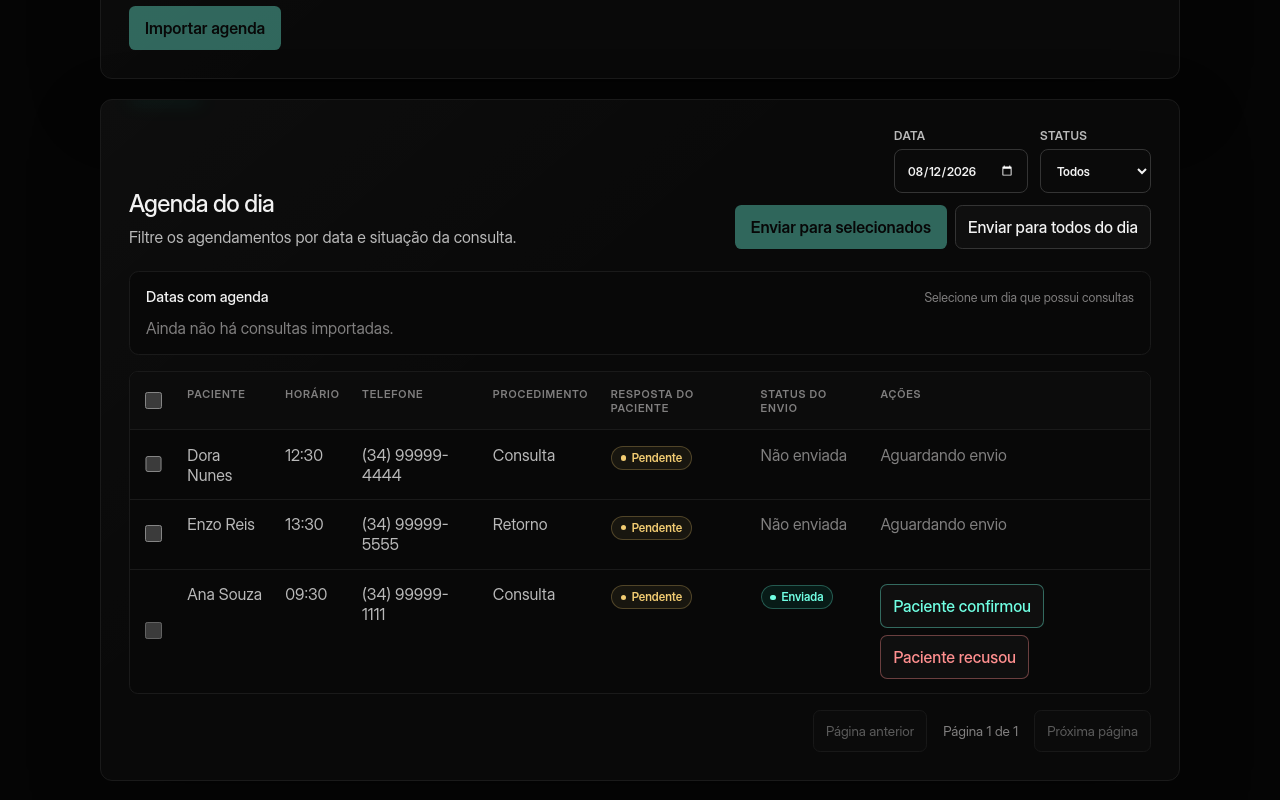
selects every eligible appointment visible on the page
(page scrolled)
Click the checkbox named "Selecionar todos os agendamentos elegíveis desta página" at (154, 401), box [145, 392, 162, 409]
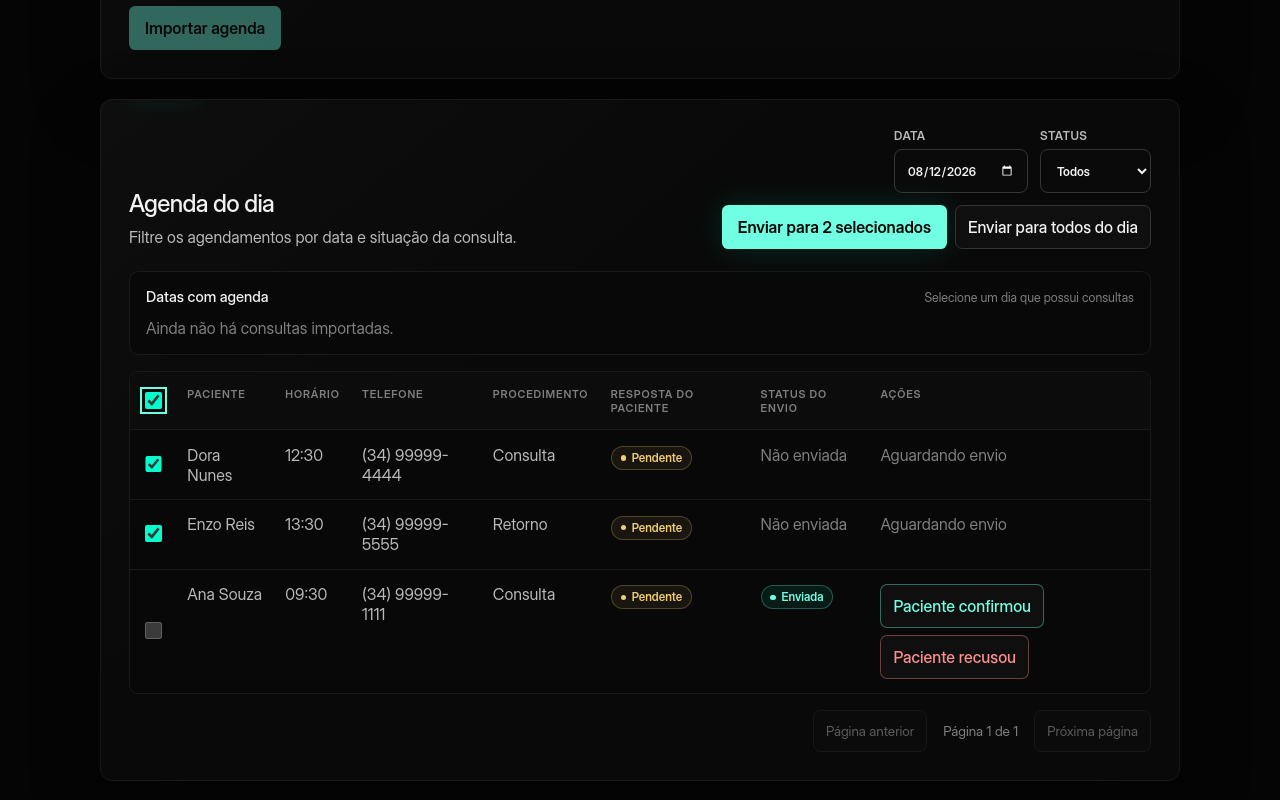
Now the checkbox named "Selecionar Dora Nunes" is checked, box [145, 456, 162, 472]
Now the checkbox named "Selecionar Enzo Reis" is checked, box [145, 526, 162, 542]
Now the button "Enviar para 2 selecionados" is enabled, box [722, 205, 947, 249]
